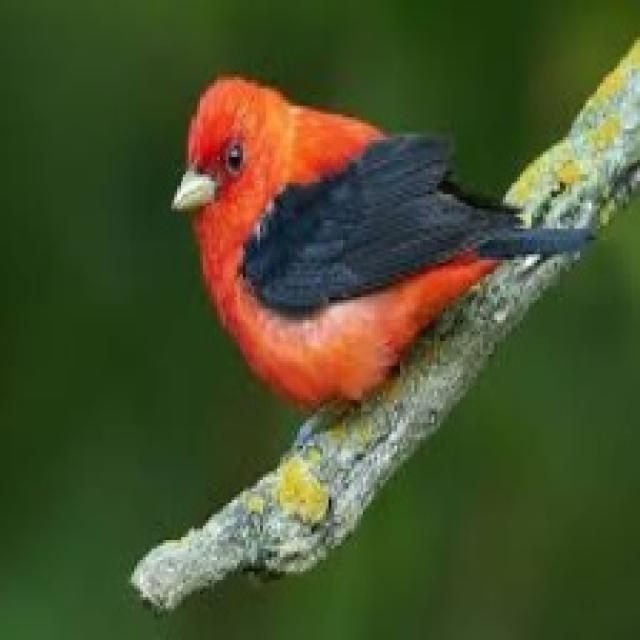bear: (110, 58, 595, 443)
